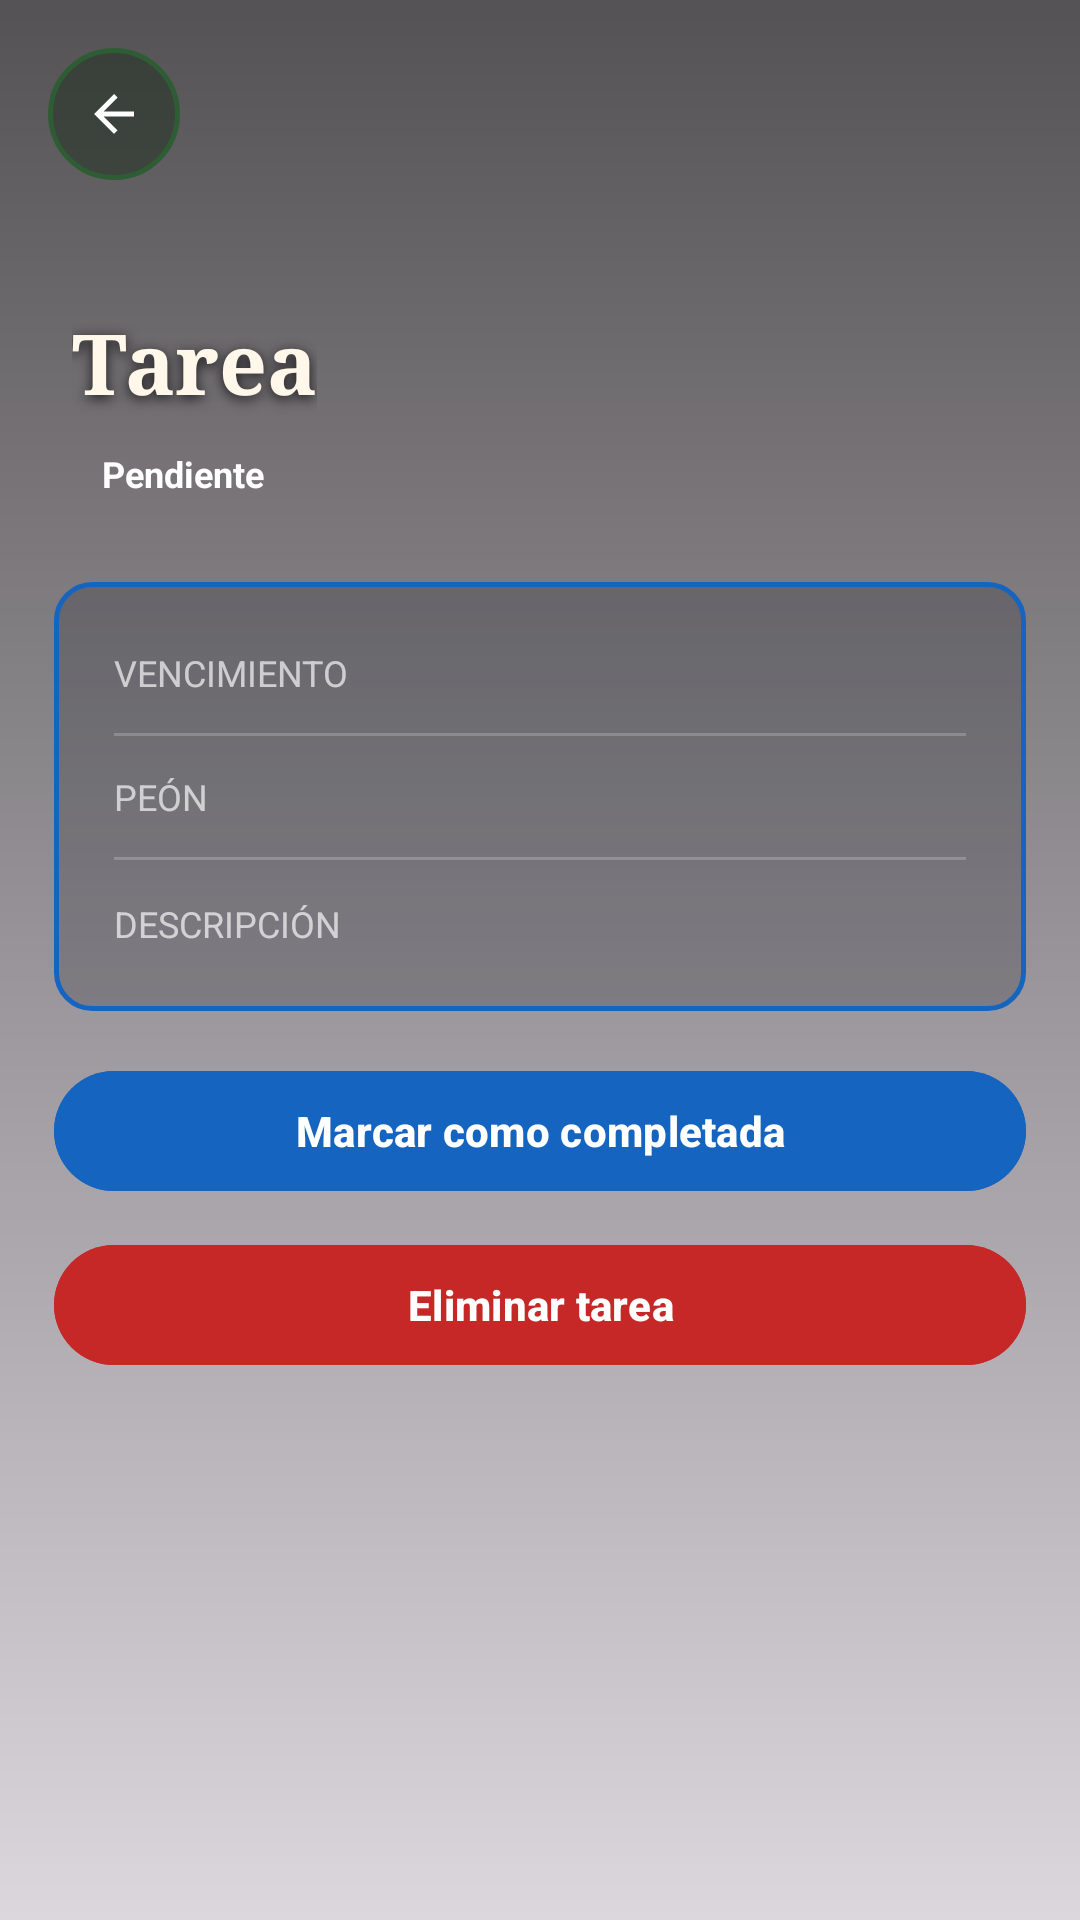

Where to tap for icons on this 1080x1920 app screen, as [x,y]:
arrow back: [114,114]
